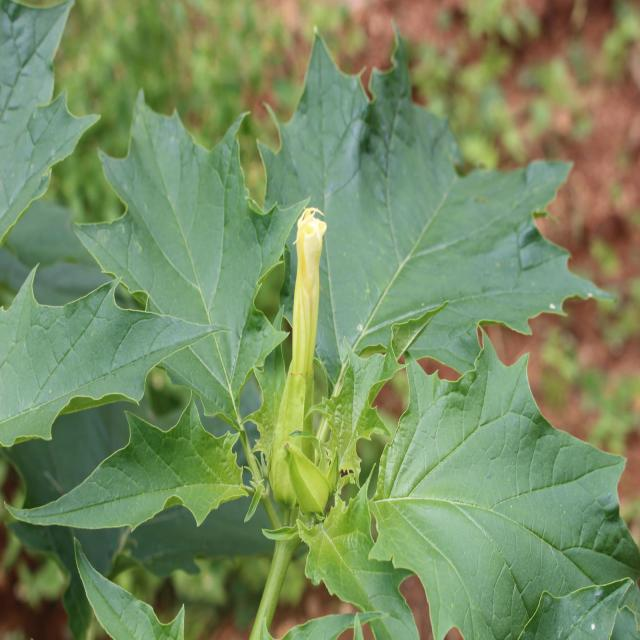Poisonous-Datura_Stramonium: (0, 81, 303, 640), (344, 336, 640, 639), (253, 176, 407, 577)
